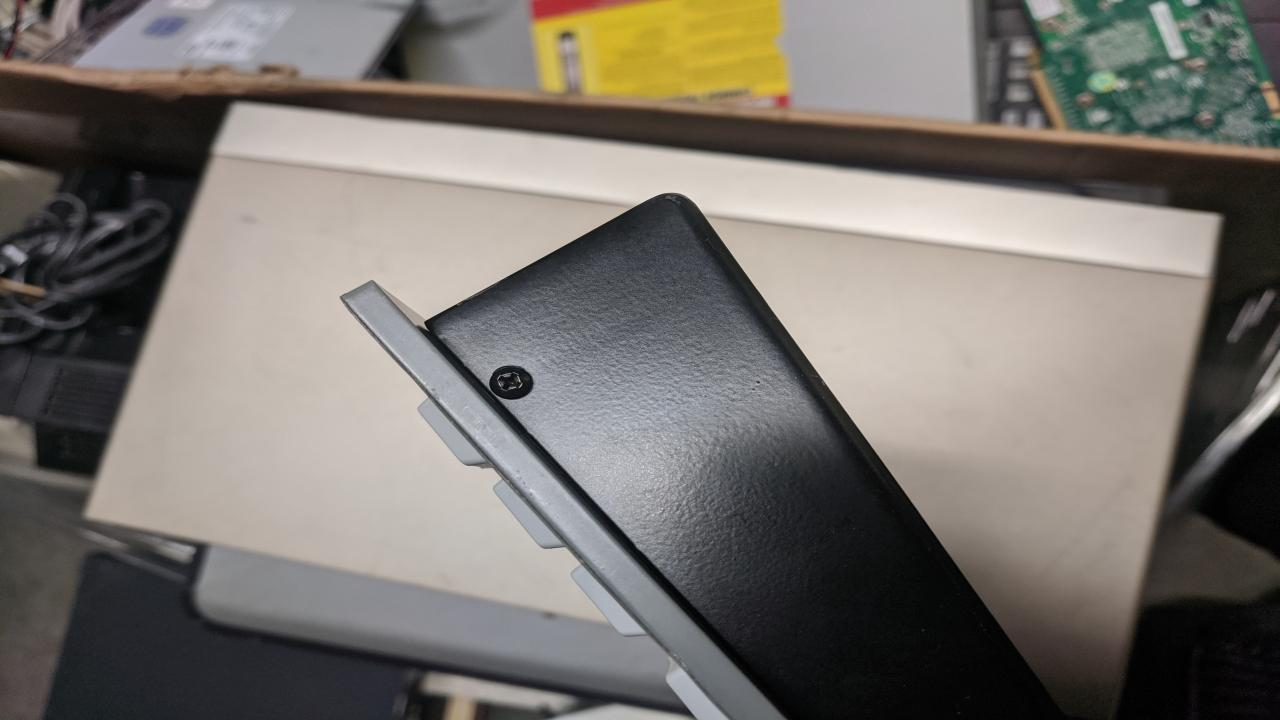CRS: (484, 362, 536, 400)
